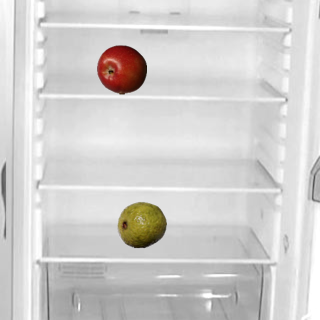Apple Braeburn: (96, 44, 146, 94)
Guava: (116, 199, 166, 249)
